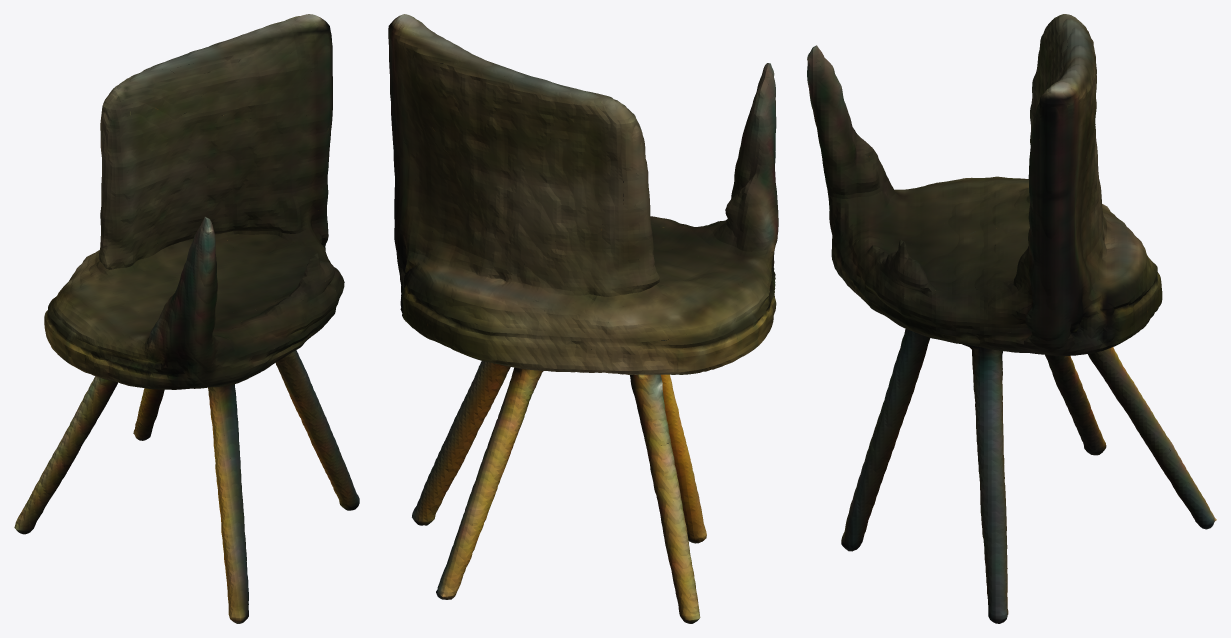
The picture shows the model from 3 angles, left to right: view 1: azimuth 30°, elevation 25°; view 2: azimuth 150°, elevation 25°; view 3: azimuth 270°, elevation 25°; orthographic projection. The views are drawn at different scales.
Visible parts, largest first — view 1: geometry_0; view 2: geometry_0; view 3: geometry_0.
Boxes of the visible parts, left/top/right/bottom form: geometry_0: left=14, top=14, right=359, bottom=623; geometry_0: left=388, top=14, right=778, bottom=623; geometry_0: left=807, top=14, right=1216, bottom=623.
Size of the model in its own units: 0.6596 by 1.05 by 0.7034.
1 material, 1 textured.
